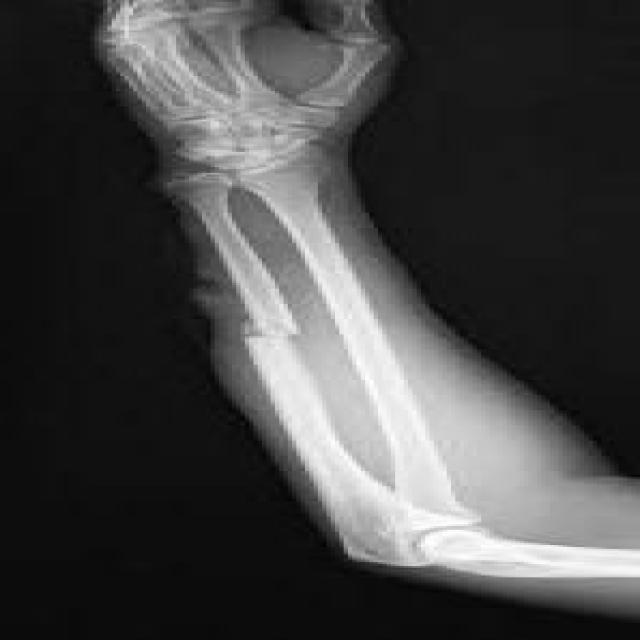bone: (212, 314, 308, 362)
